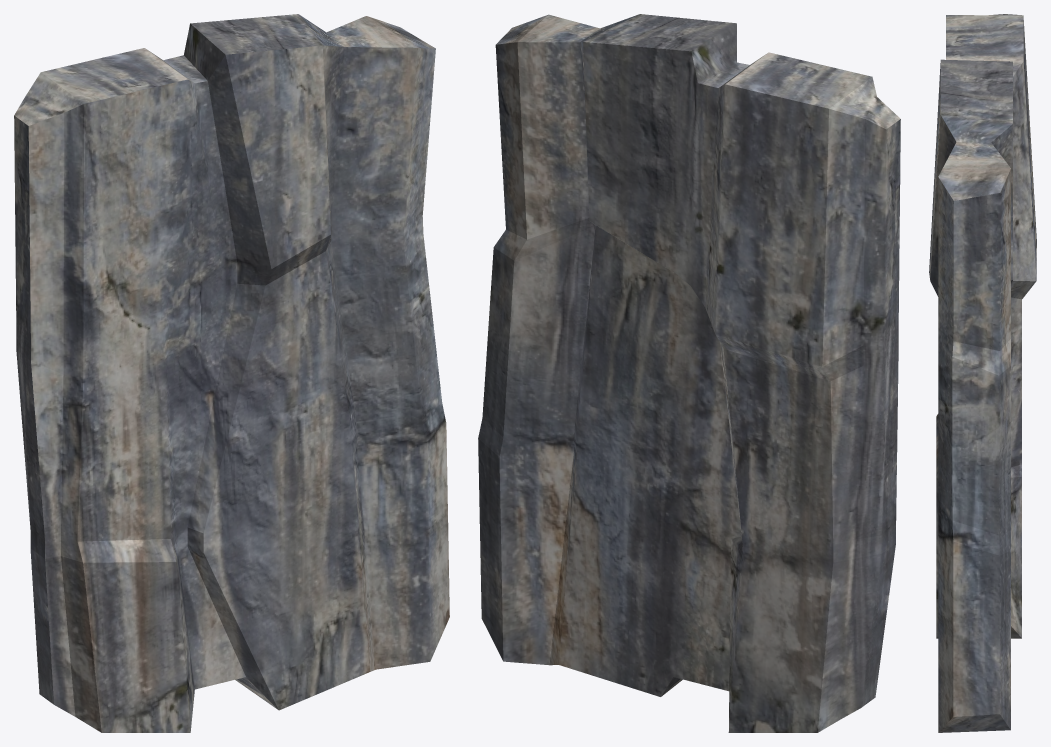
File: RockWall_1.fbx
The picture shows the model from 3 angles, left to right: view 1: azimuth 30°, elevation 25°; view 2: azimuth 150°, elevation 25°; view 3: azimuth 270°, elevation 25°; orthographic projection. The views are drawn at different scales.
Visible parts, largest first — view 1: pCube12; view 2: pCube12; view 3: pCube12.
Boxes of the visible parts, <box> form: pCube12: <box>14,14,449,732</box>; pCube12: <box>478,14,900,732</box>; pCube12: <box>929,14,1036,732</box>.
Size of the model in its own units: 9.6 by 14.89 by 2.44.
